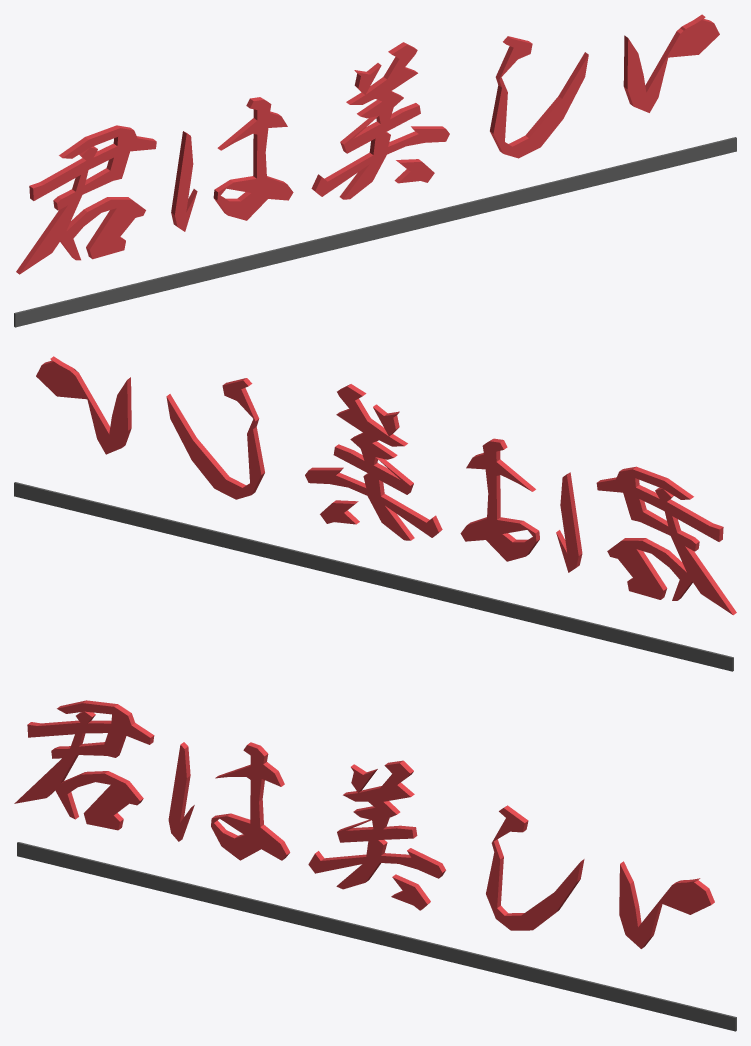
The model's file is beautifull.fbx.
3 renders of one model, top to bottom at view 1: azimuth 30°, elevation 25°; view 2: azimuth 150°, elevation 25°; view 3: azimuth 330°, elevation 25°, orthographic.
Parts seen in each view (by area): view 1: Text.006, Plane.015; view 2: Text.006, Plane.015; view 3: Text.006, Plane.015.
Part boxes in pixels (<box>): Text.006: <box>16,14,719,274</box>; Plane.015: <box>14,137,736,327</box>; Text.006: <box>36,356,736,615</box>; Plane.015: <box>14,482,733,671</box>; Text.006: <box>14,700,714,948</box>; Plane.015: <box>17,842,736,1031</box>.
Bounding box in the file's own units: 33.32 × 8.42 × 0.4.
